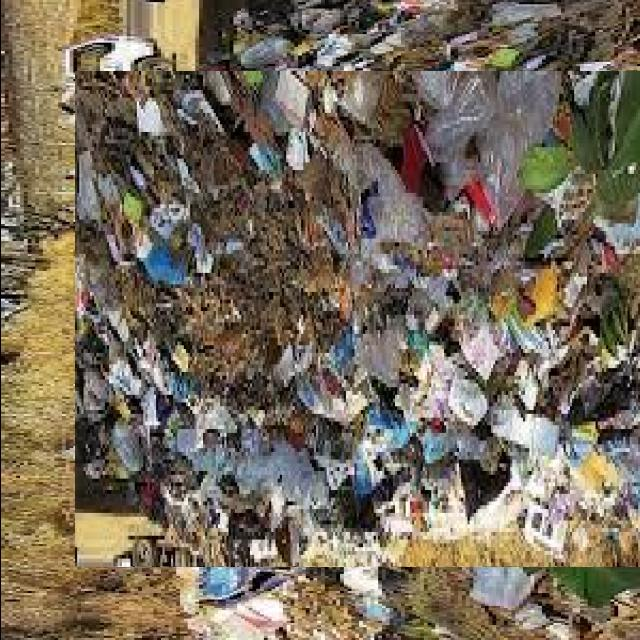garbage: (108, 36, 640, 602)
